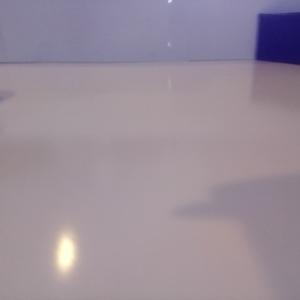zone: (255, 12, 300, 64)
